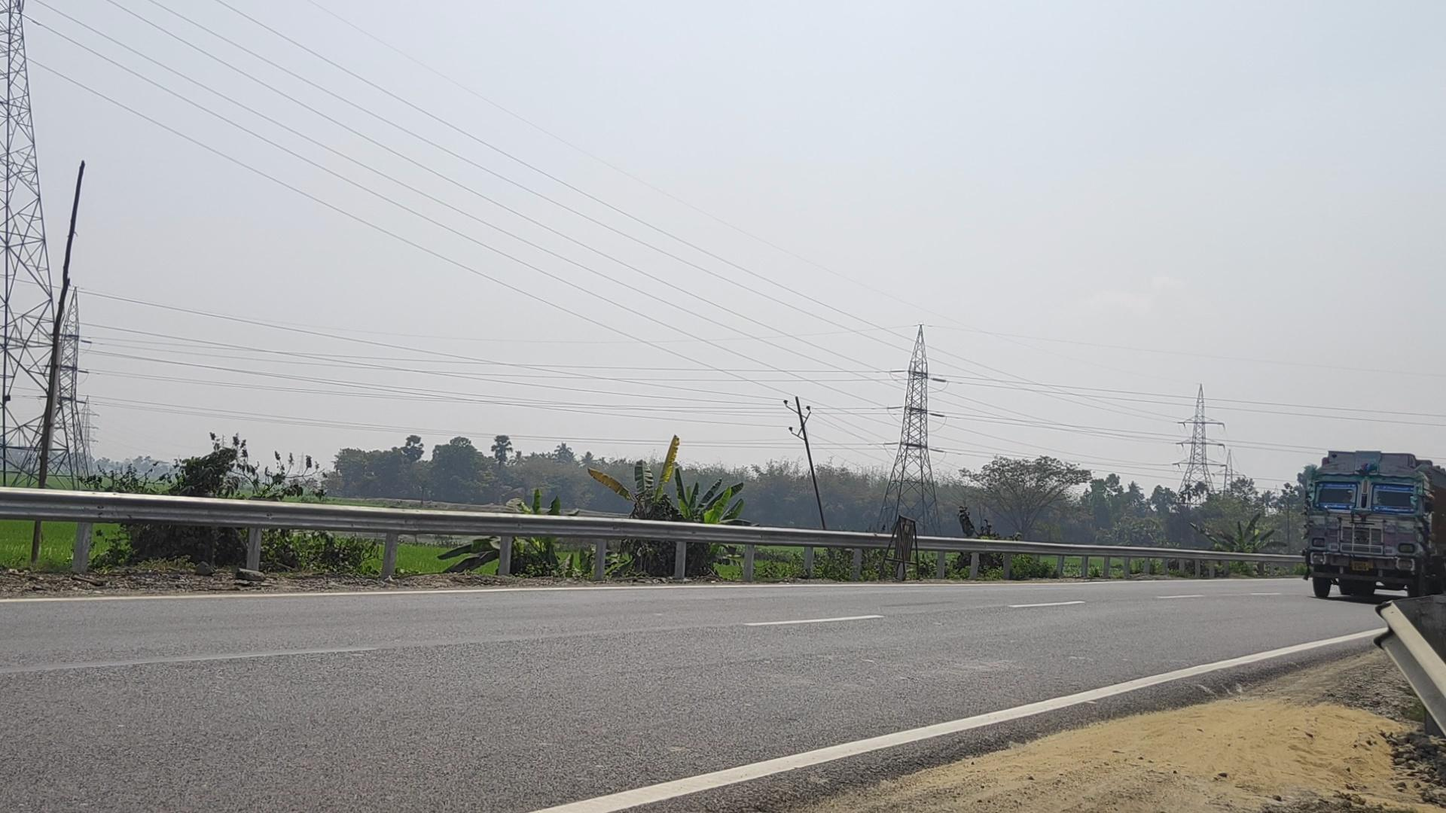truck: (1305, 451, 1446, 603)
